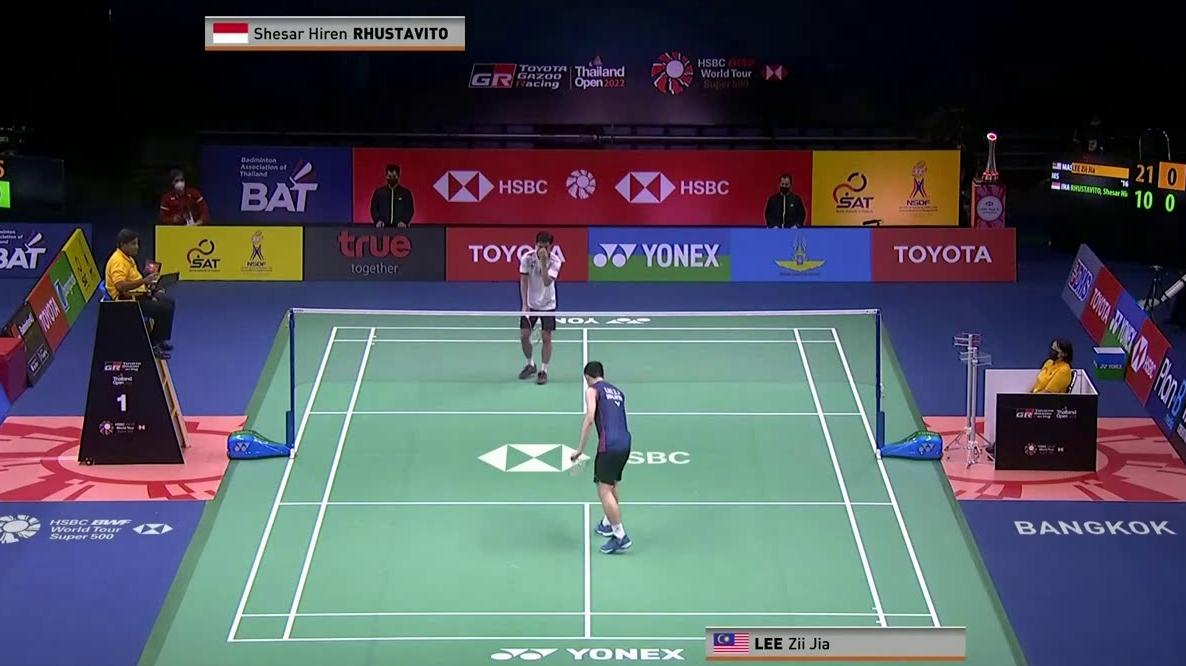racket: (567, 447, 609, 477), (521, 308, 543, 346)
